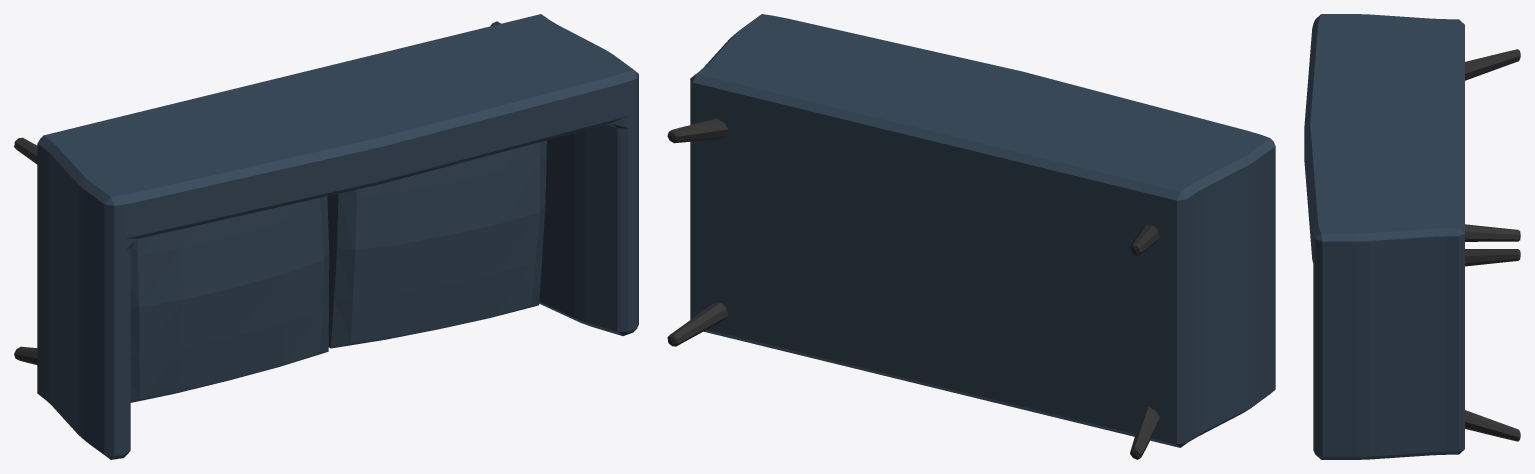
The model's file is sofa-two-seat.obj.
3 renders of one model, left to right at view 1: azimuth 30°, elevation 25°; view 2: azimuth 150°, elevation 25°; view 3: azimuth 270°, elevation 25°, orthographic. The views are drawn at different scales.
Visible parts, largest first — view 1: sofa-two-seat; view 2: sofa-two-seat; view 3: sofa-two-seat.
Boxes of the visible parts, x1,y1,x2,y2 form: sofa-two-seat: [14, 14, 638, 459]; sofa-two-seat: [667, 14, 1275, 459]; sofa-two-seat: [1304, 14, 1520, 459].
Bounding box in the file's own units: 78.54 × 36.92 × 32.
